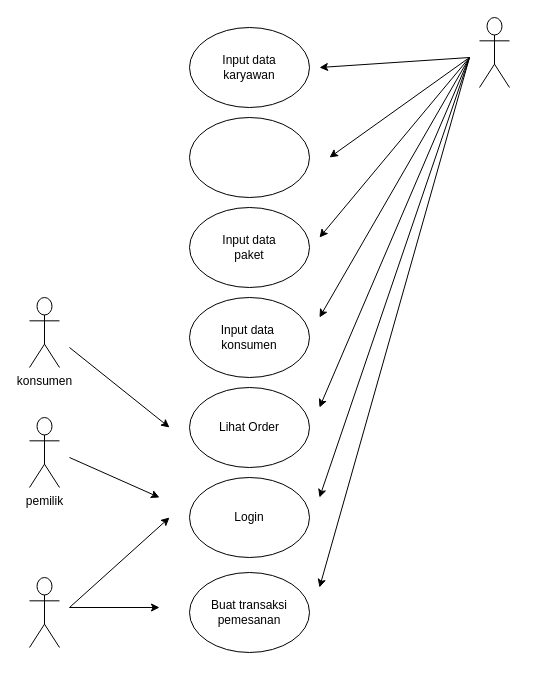
This 546x686 diagram has some shape labels left out. Here are the shapes that lost their labels. From the top down, the box of each, then its label:
(478, 16, 510, 88): administrator
(188, 116, 310, 198): Input data jenis pembayaran
(28, 576, 60, 648): karyawan
